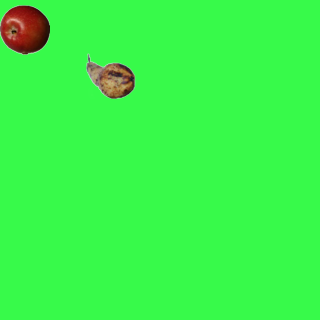Apple Braeburn: (0, 4, 49, 54)
Pear Abate: (85, 51, 135, 101)
